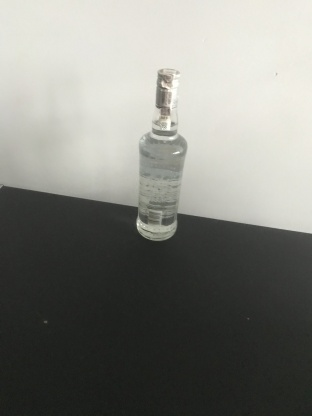nakretka: (154, 66, 182, 109)
